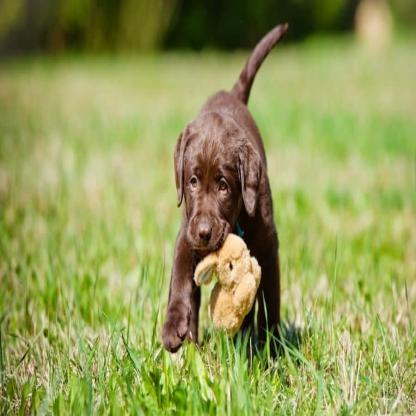dog: (163, 21, 291, 359)
